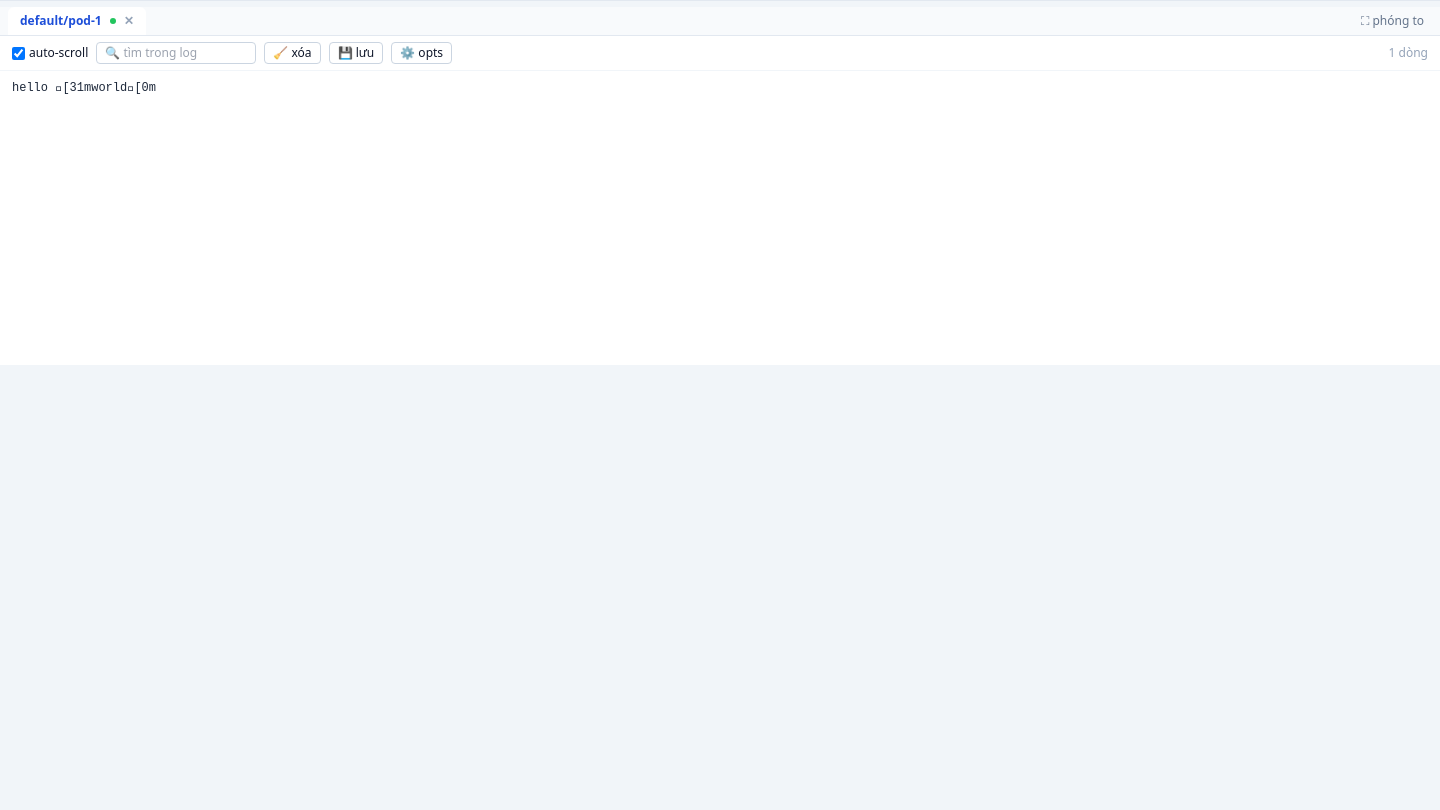
Test: LogTabs › phóng to / thu nhỏ khung log qua nút trên tab bar
Click the button with aria-label "Phóng to khung log". click: [1392, 21]
box: [1353,11,1432,31]
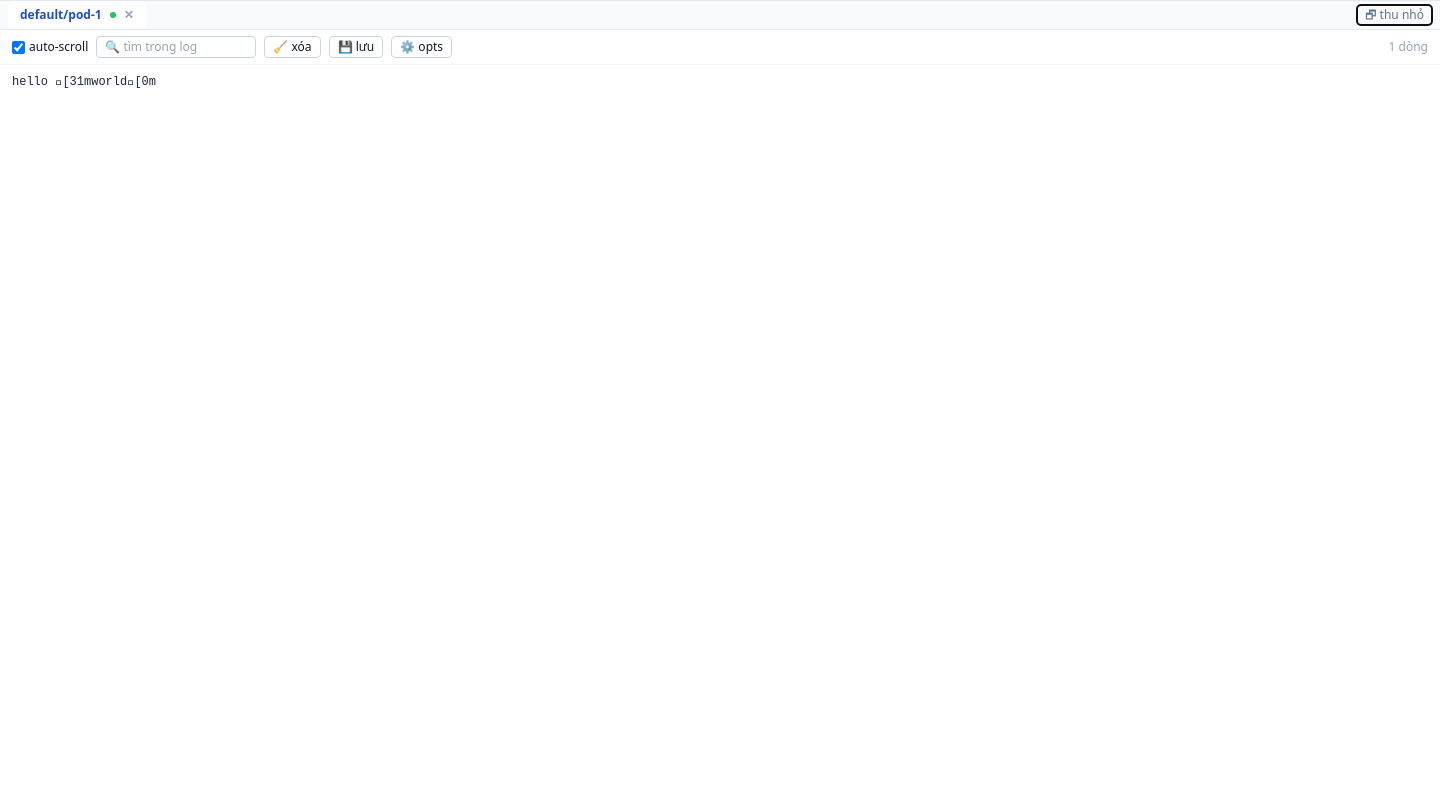
expect the button with aria-label "Thu nhỏ khung log" is shown: met
Click the button with aria-label "Thu nhỏ khung log". click: [1395, 15]
box: [1357,5,1432,25]
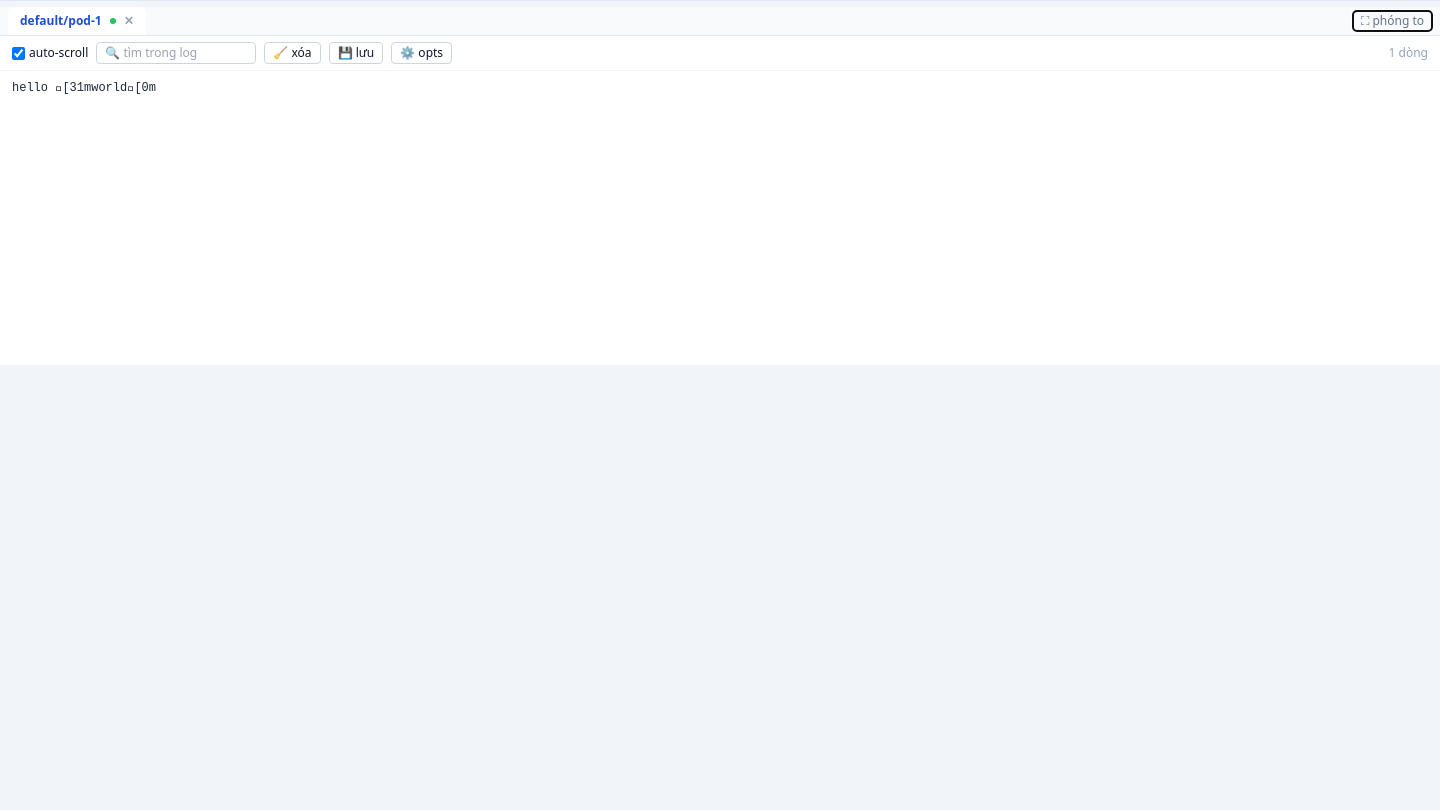
expect the button with aria-label "Phóng to khung log" is shown: met, box [1353,11,1432,31]
